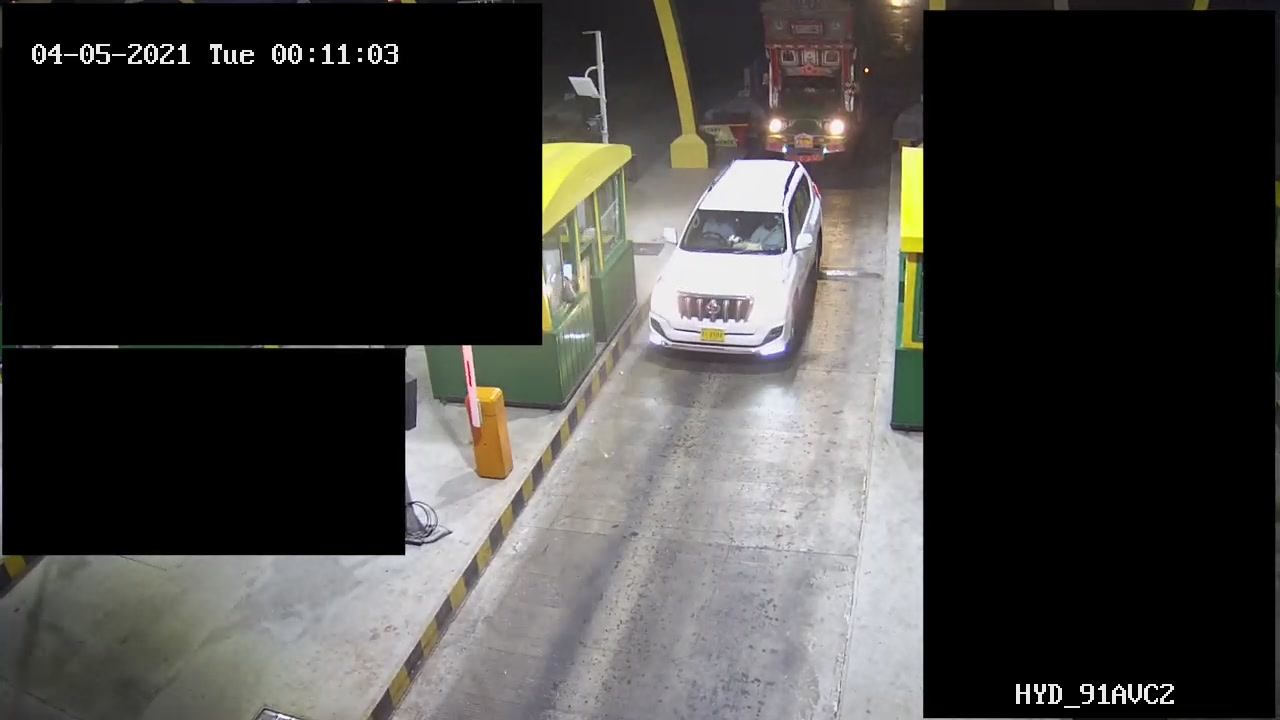F1: (628, 156, 843, 367)
